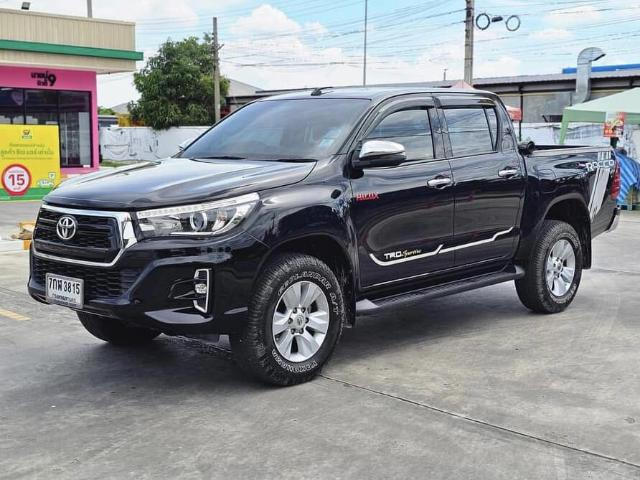pickup-truck: (23, 74, 627, 396)
